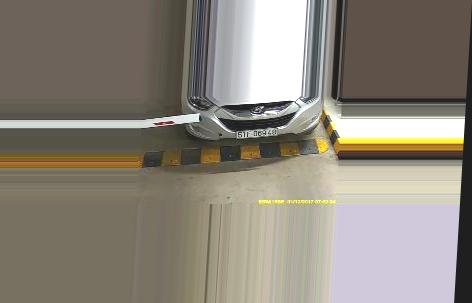License_Plate: (234, 128, 281, 140)
